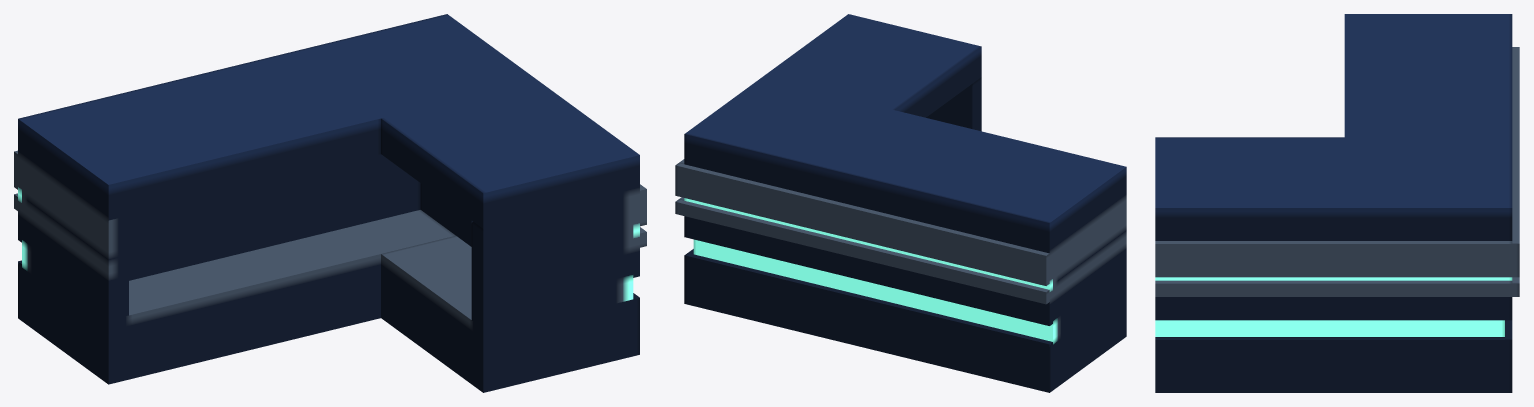
File: st_arcade.dae
The picture shows the model from 3 angles, left to right: view 1: azimuth 30°, elevation 25°; view 2: azimuth 150°, elevation 25°; view 3: azimuth 270°, elevation 25°; orthographic projection. The views are drawn at different scales.
Visible parts, largest first — view 1: Content; view 2: Content; view 3: Content.
Boxes of the visible parts, box(x1,y1,x2,y2) form: Content: box(14, 14, 646, 392); Content: box(675, 14, 1126, 392); Content: box(1155, 14, 1519, 392).
Size of the model in its own units: 64 by 28 by 50.
1 material, 1 textured.
